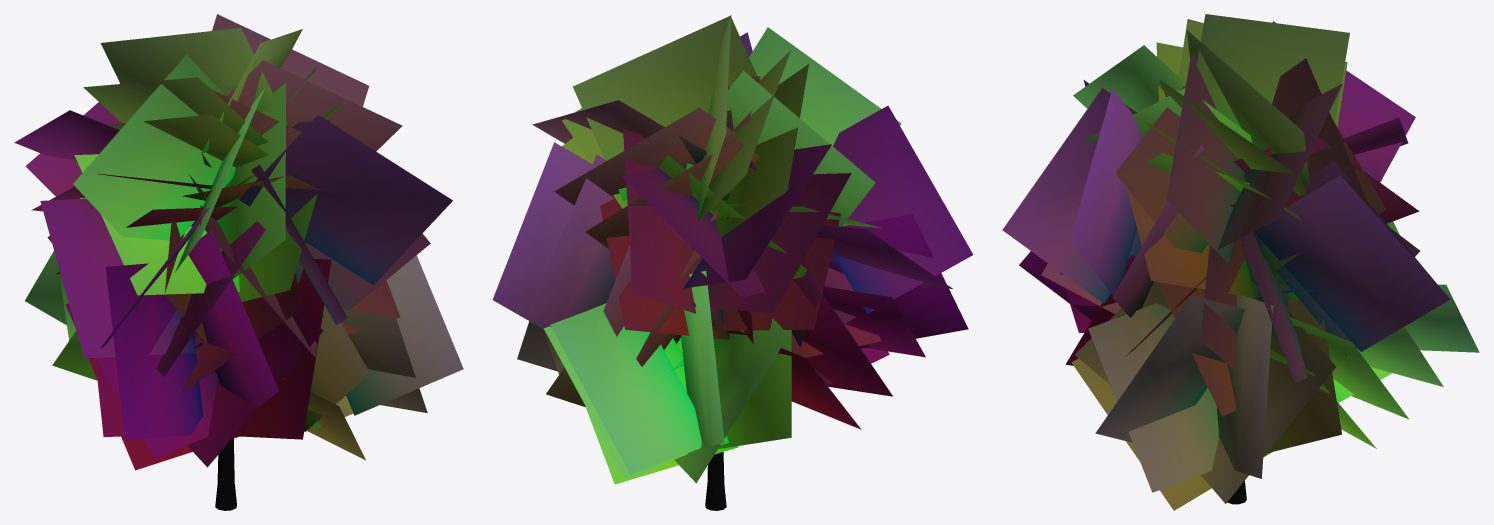
The model's file is URP_Tree_2_LOD_2.fbx.
3 renders of one model, left to right at view 1: azimuth 30°, elevation 25°; view 2: azimuth 150°, elevation 25°; view 3: azimuth 270°, elevation 25°, orthographic.
Parts seen in each view (by area): view 1: Tree_1_LOD_2; view 2: Tree_1_LOD_2; view 3: Tree_1_LOD_2.
Boxes of the visible parts, x1=… form: Tree_1_LOD_2: x1=14, y1=14, x2=463, y2=510; Tree_1_LOD_2: x1=492, y1=14, x2=973, y2=510; Tree_1_LOD_2: x1=1002, y1=14, x2=1479, y2=510.
Size of the model in its own units: 474 by 578 by 515.
